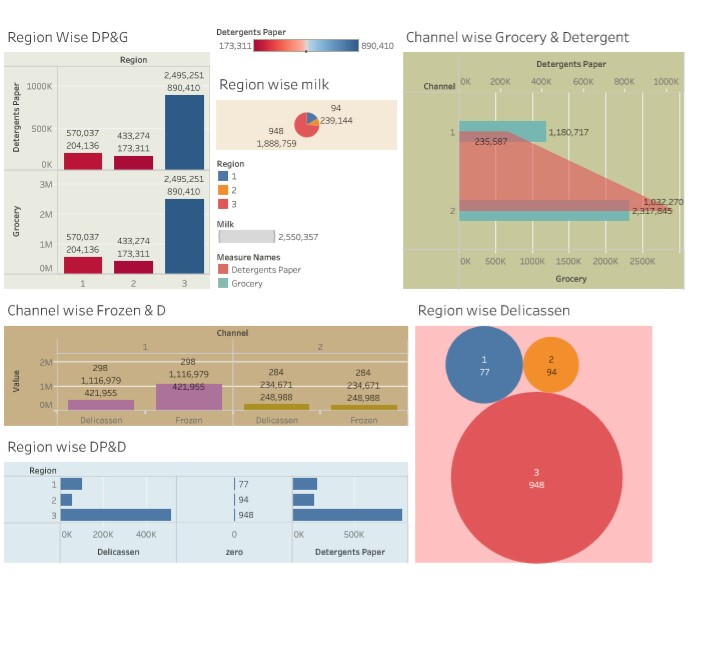

Layout of this report page (visuals, bound fields, positions):
{"tool":"tableau","page":{"name":"Region Datas","canvas":[1000,800],"ordinal":1},"visuals":[{"type":"worksheet","title":"Region Wise DP&G","mark":"Automatic","rows":["Detergents_Paper","Grocery"],"cols":["Region"],"box":[8,8,304,392]},{"type":"legend","title":"Region Wise DP&G","param":"[federated.10gtugz0cay4mu1c8y5fw058jczt].[sum:Detergents_Paper:qk]","box":[312,8,268,65]},{"type":"worksheet","title":"Channel wise Grocery & Detergent","mark":"Automatic","rows":["Channel"],"cols":["Grocery","Detergents_Paper"],"box":[580,8,412,392]},{"type":"worksheet","title":"Region wise milk","mark":"Pie","box":[312,73,268,129]},{"type":"legend","title":"Region wise milk","param":"[federated.10gtugz0cay4mu1c8y5fw058jczt].[none:Region:ok]","box":[312,202,268,86]},{"type":"legend","title":"Region wise milk","param":"[federated.10gtugz0cay4mu1c8y5fw058jczt].[sum:Milk:qk]","box":[312,288,268,46]},{"type":"legend","title":"Channel wise Grocery & Detergent","param":"[federated.10gtugz0cay4mu1c8y5fw058jczt].[:Measure Names]","box":[312,334,268,66]},{"type":"worksheet","title":"Channel wise Frozen & D","mark":"Automatic","cols":["Channel"],"box":[8,400,589,196]},{"type":"worksheet","title":"Region wise Delicassen","mark":"Circle","box":[597,400,395,392]},{"type":"worksheet","title":"Region wise DP&D","mark":"Automatic","rows":["Region"],"cols":["Delicassen","Calculation_570831264798572544","Detergents_Paper"],"box":[8,596,589,196]}]}

Visuals, with their boxes on the page's 1000x800 design canvas (x1, y1, x2, y2). These are canvas units, not pixel positions in the 701x645 screenshot, which may show the page scaled, cropped or inside an application window:
"Region Wise DP&G" worksheet: l=8, t=8, r=312, b=400
"Region Wise DP&G" legend: l=312, t=8, r=580, b=73
"Channel wise Grocery & Detergent" worksheet: l=580, t=8, r=992, b=400
"Region wise milk" worksheet (Pie marks): l=312, t=73, r=580, b=202
"Region wise milk" legend: l=312, t=202, r=580, b=288
"Region wise milk" legend: l=312, t=288, r=580, b=334
"Channel wise Grocery & Detergent" legend: l=312, t=334, r=580, b=400
"Channel wise Frozen & D" worksheet: l=8, t=400, r=597, b=596
"Region wise Delicassen" worksheet (Circle marks): l=597, t=400, r=992, b=792
"Region wise DP&D" worksheet: l=8, t=596, r=597, b=792
